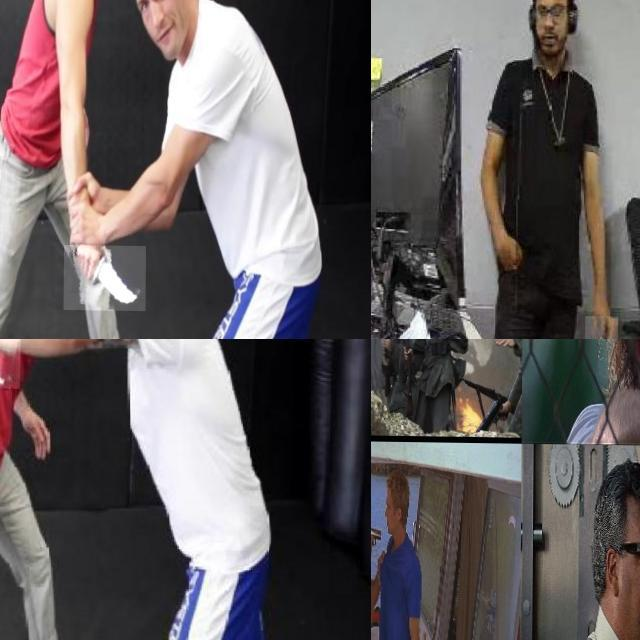-: (64, 244, 147, 310), (0, 339, 41, 387), (585, 315, 619, 339)
gun-knife-thesis - v11 Yolov5 augmented: (461, 372, 515, 414), (371, 339, 424, 367), (396, 339, 413, 414), (472, 394, 503, 429), (375, 339, 391, 405), (371, 513, 381, 558)
